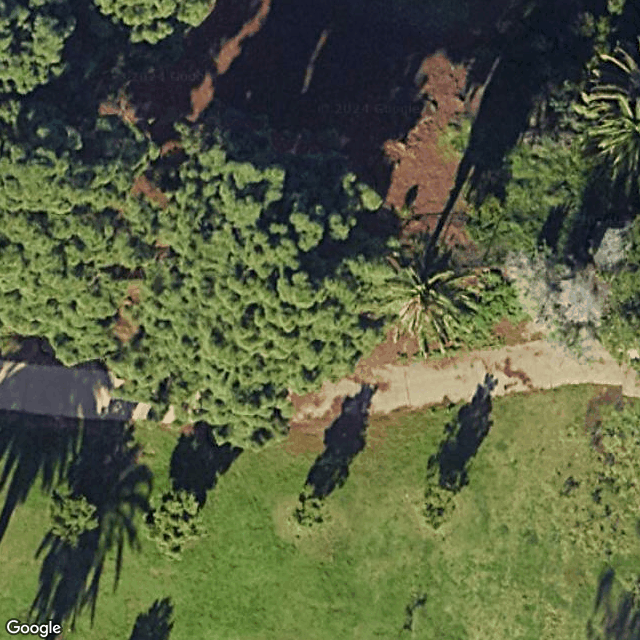palm: (365, 240, 499, 365)
